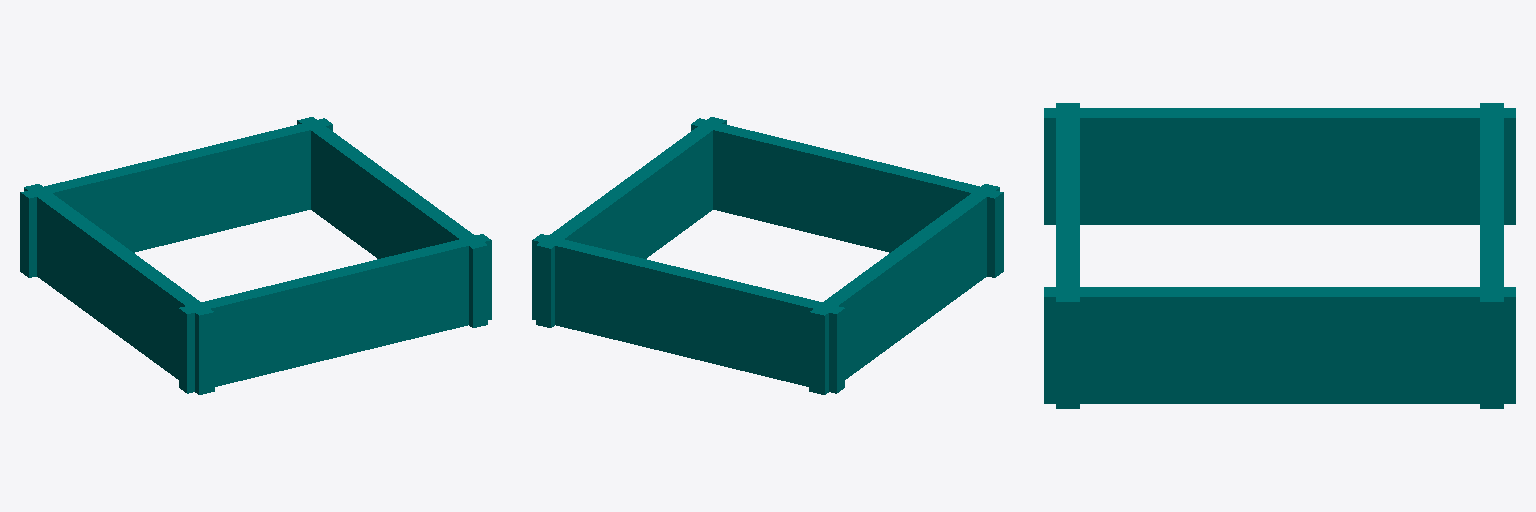
robot.urdf — bowl.urdf:
<?xml version="0.0" ?>
<robot name="bowl.urdf">
  <material name="mainColor">
    <color rgba="0.0 .502 .502 1."/>
  </material>
<!--   <material name="mainColor">
    <color rgba=".55 .27 .1 1."/>
  </material> -->
<!--   <material name="mainColor">
    <color rgba="1. 1. 1. 1."/>
  </material> -->
  <material name="grey">
    <color rgba=".5 .5 .5 1."/>
  </material>

  <link name="world"/>

  <link name="base">
    <inertial>
      <origin rpy="0 0 0" xyz="0.0 0.0 0.0"/>
       <mass value=".1"/>
       <inertia ixx="1" ixy="0" ixz="0" iyy="1" iyz="0" izz="1"/>
    </inertial>
    <visual>
      <!-- right -->
      <origin rpy="0 0 0" xyz="0 -.45 0"/>
      <geometry>
        <box size="1 .05 .25"/>
      </geometry>
      <material name="mainColor"/>
    </visual>
    <visual>
      <!-- left -->
      <origin rpy="0 0 0" xyz="0 .45 0"/>
      <geometry>
        <box size="1 .05 .25"/>
      </geometry>
      <material name="mainColor"/>
    </visual>
    <visual>
      <!-- front -->
      <origin rpy="0 0 0" xyz=".45 0 0"/>
      <geometry>
        <box size=".05 1 .25"/>
      </geometry>
      <material name="mainColor"/>
    </visual>
    <visual>
      <!-- back -->
      <origin rpy="0 0 0" xyz="-.45 0 0"/>
      <geometry>
        <box size=".05 1 .25"/>
      </geometry>
      <material name="mainColor"/>
    </visual>
    <collision>
      <origin rpy="0 0 0" xyz="0 0 -.3"/>
      <geometry>
        <box size="1.2 1.2 .1"/>
      </geometry>
    </collision>
    <collision>
      <!-- right -->
      <origin rpy="0 0 0" xyz="0 -.45 0"/>
      <geometry>
        <box size="1 .05 .25"/>
      </geometry>
    </collision>
    <collision>
      <!-- left -->
      <origin rpy="0 0 0" xyz="0 .45 0"/>
      <geometry>
        <box size="1 .05 .25"/>
      </geometry>
    </collision>
    <collision>
      <!-- front -->
      <origin rpy="0 0 0" xyz=".45 0 0"/>
      <geometry>
        <box size=".05 1 .25"/>
      </geometry>
    </collision>
    <collision>
      <!-- back -->
      <origin rpy="0 0 0" xyz="-.45 0 0"/>
      <geometry>
        <box size=".05 1 .25"/>
      </geometry>
    </collision>
  </link>

  <joint name="base_joint" type="fixed">
    <parent link="world"/>
    <child link="base"/>
  </joint>

</robot>

--- Facts derived from the render (not from the file) ---
The picture shows the robot from 3 angles, left to right: view 1: azimuth 30°, elevation 25°; view 2: azimuth 150°, elevation 25°; view 3: azimuth 270°, elevation 25°; orthographic projection.
Robot: bowl.urdf — 2 links, 1 joints (1 fixed); root link world; default pose: every joint at zero.
Links seen in each view (by area): view 1: base; view 2: base; view 3: base.
Boxes of the visible links, <box> form: base: <box>20,117,491,394</box>; base: <box>532,117,1003,394</box>; base: <box>1044,103,1515,408</box>.
Size in the robot's own frame: 1 by 1 by 0.25 metres.
Geometry: primitives only (box / cylinder / sphere), no mesh files.